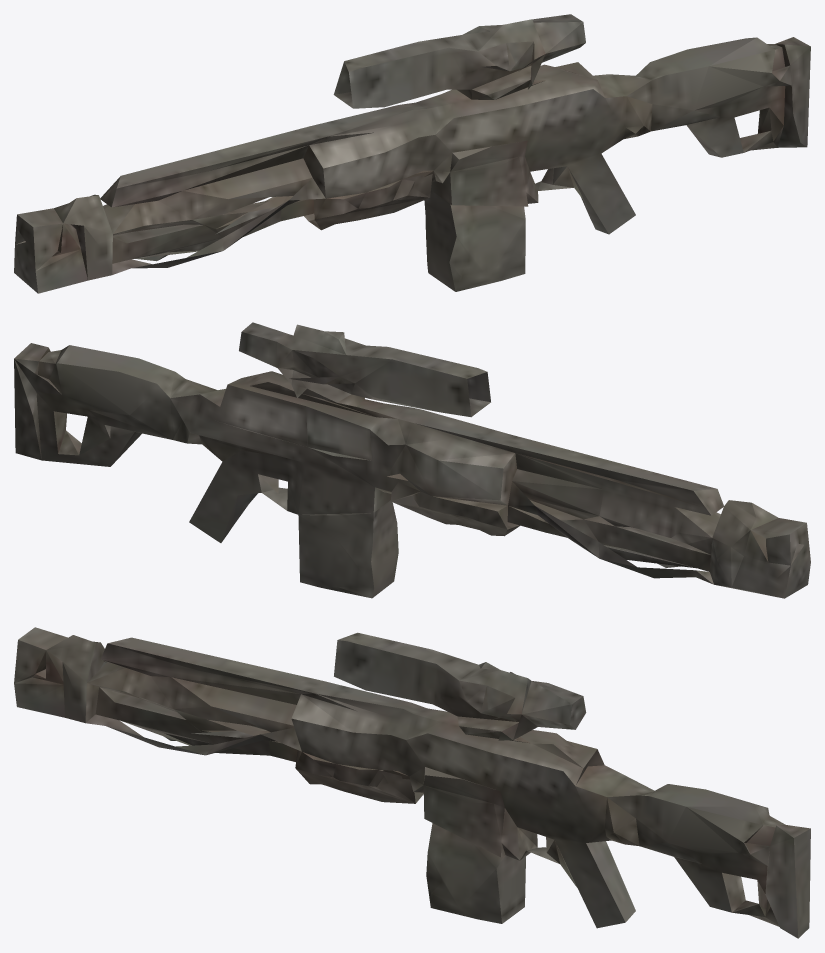
Rendered from prop.rifle_ranger.glb.
3 views of the same model, one above another, from view 1: azimuth 30°, elevation 25°; view 2: azimuth 150°, elevation 25°; view 3: azimuth 330°, elevation 25° (orthographic).
Parts seen in each view (by area): view 1: body; view 2: body; view 3: body.
Boxes of the visible parts, x1,y1,x2,y2 form: body: (14, 14, 810, 293); body: (14, 322, 810, 598); body: (14, 627, 810, 938).
Size of the model in its own units: 0.5996 by 0.1797 by 0.0445.
1 material, 1 textured.
